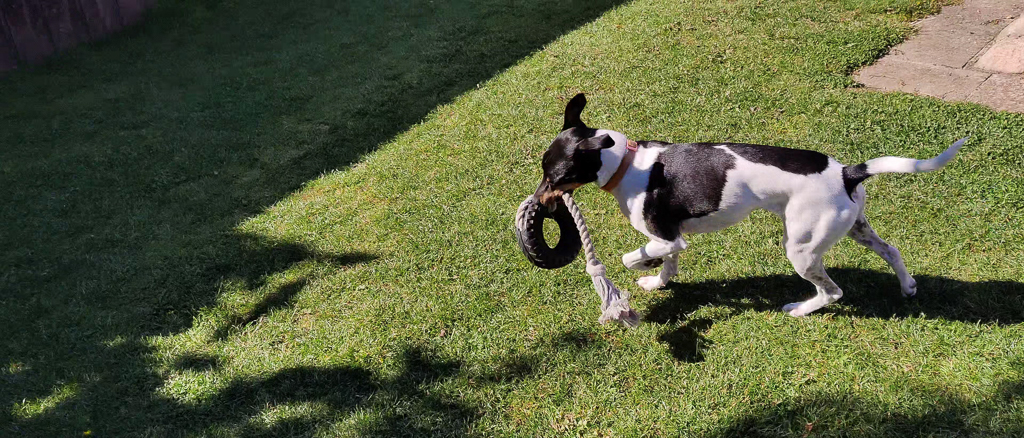Dog: (500, 87, 979, 334)
